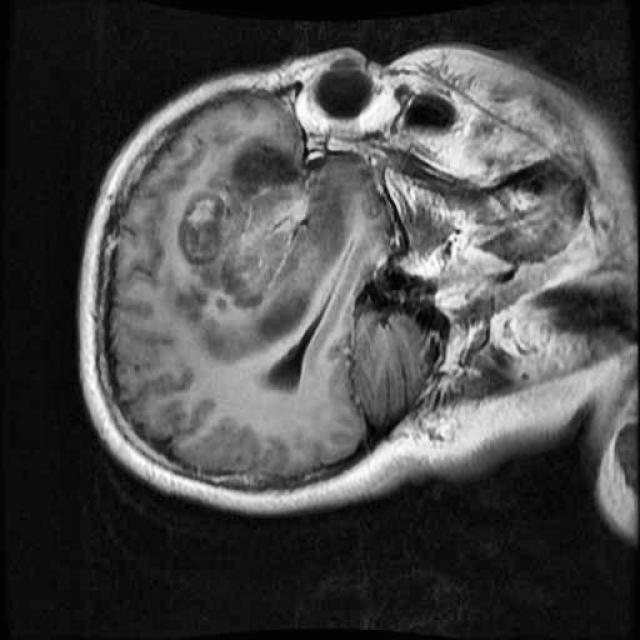Tumor: (163, 116, 347, 336)
